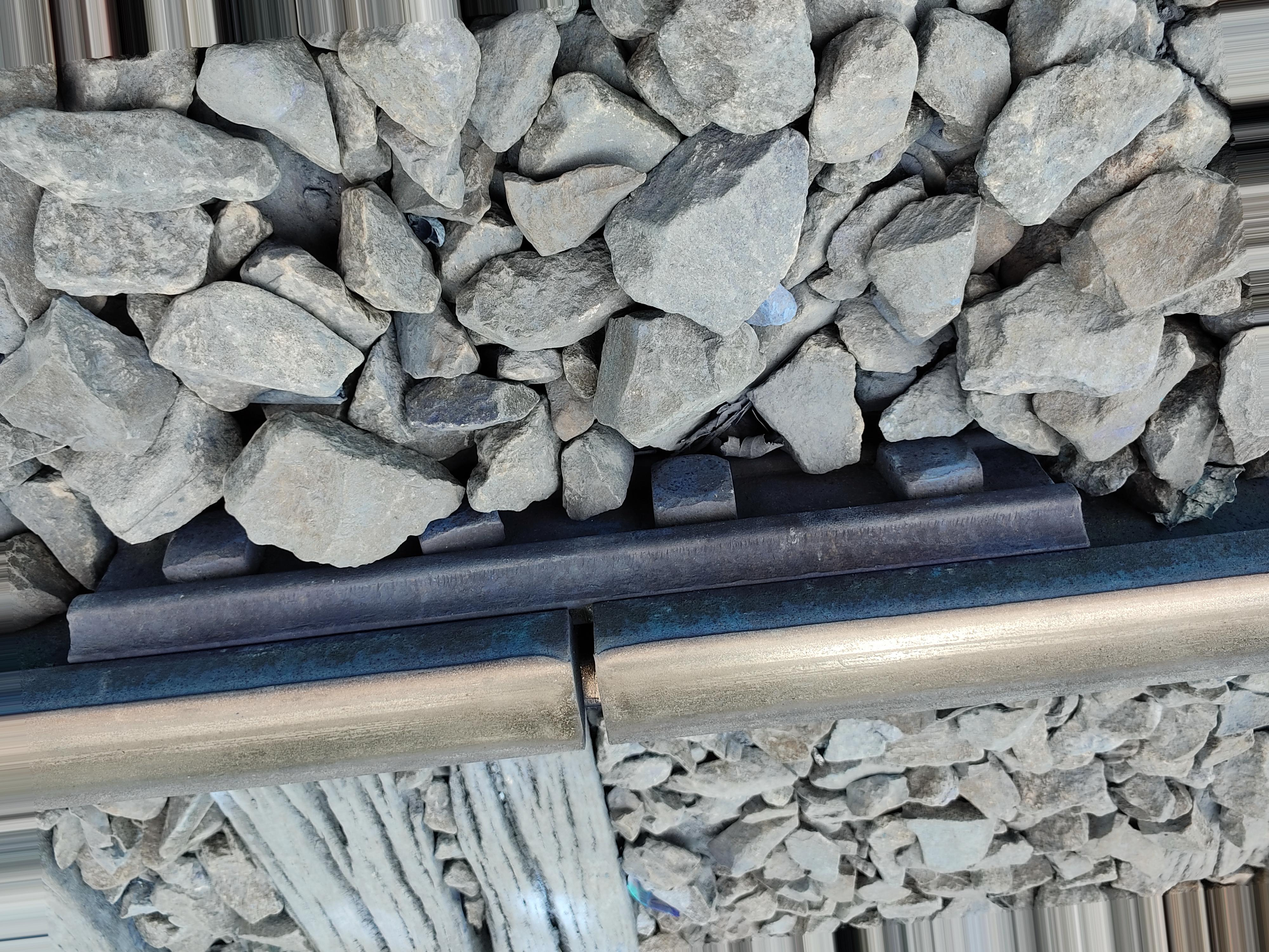tracks_fault: (492, 576, 659, 819)
